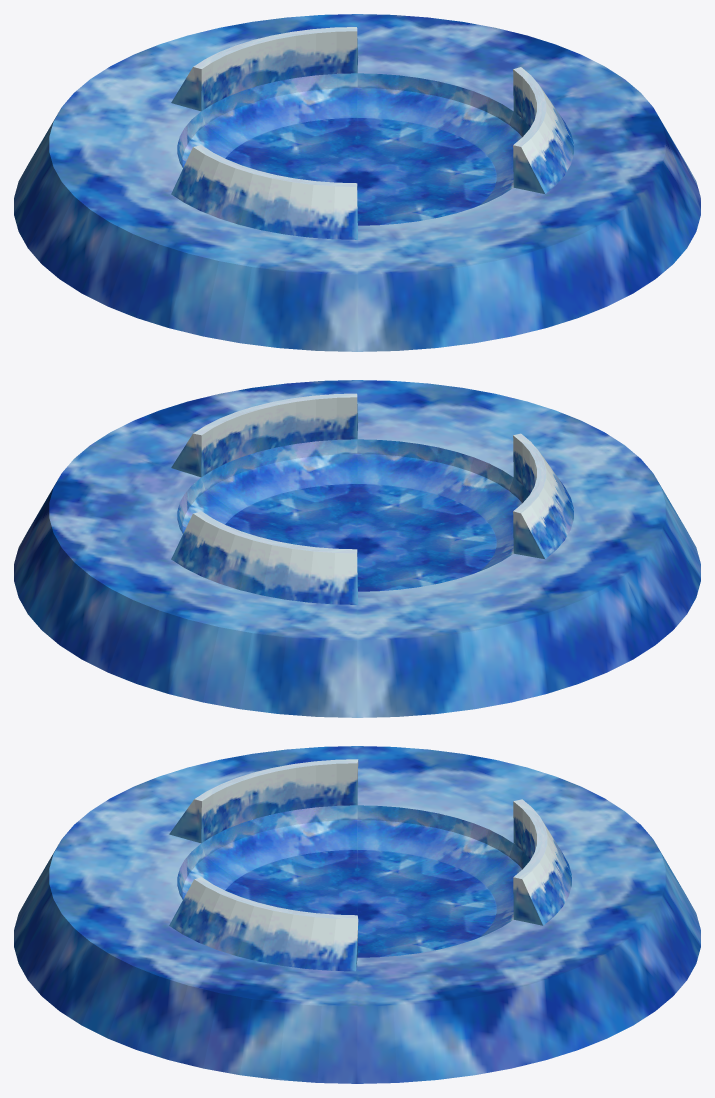
Rendered from baseSubzero.obj.
3 views of the same model, one above another, from view 1: azimuth 30°, elevation 25°; view 2: azimuth 150°, elevation 25°; view 3: azimuth 270°, elevation 25° (orthographic).
Parts seen in each view (by area): view 1: polygon0.001, polygon0; view 2: polygon0.001, polygon0; view 3: polygon0.001, polygon0.
Part boxes in pixels (<box>): polygon0.001: <box>14,14,700,351</box>; polygon0: <box>177,73,529,225</box>; polygon0.001: <box>14,380,700,717</box>; polygon0: <box>177,439,529,591</box>; polygon0.001: <box>14,746,700,1083</box>; polygon0: <box>177,805,530,957</box>.
Bounding box in the file's own units: 4.94 × 0.7858 × 4.93.
Materials: 2 (2 with a texture image).
